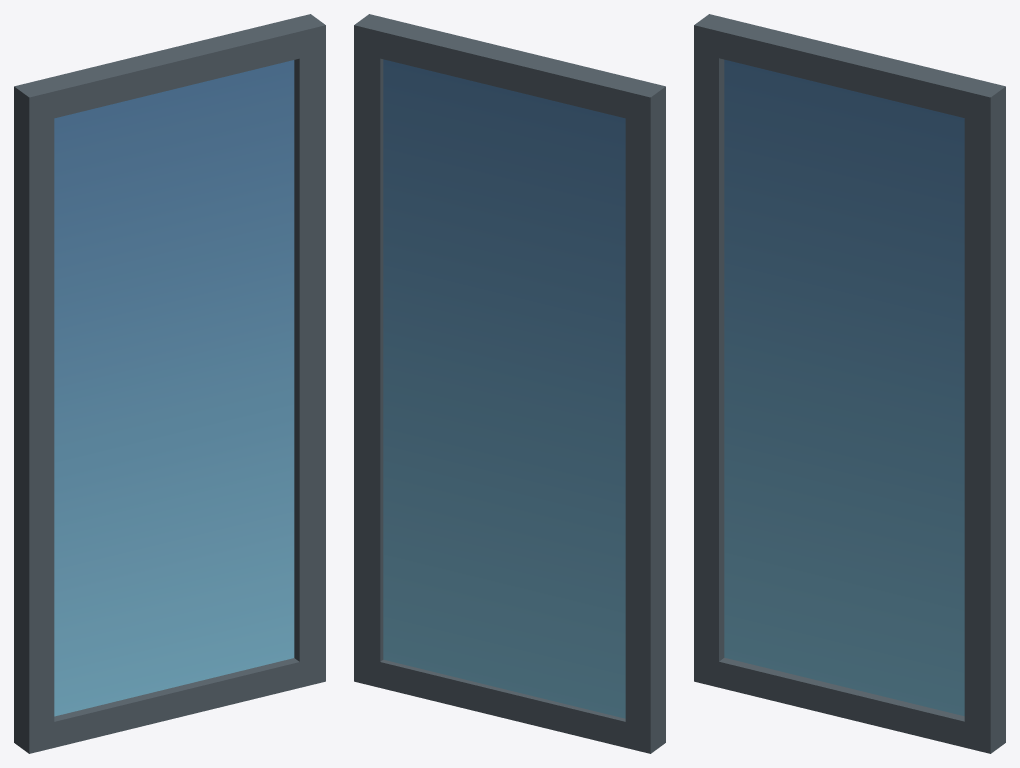
The model's file is SM_Buildings_Airport_01_Door_L.fbx.
3 views of the same model, side by side, from view 1: azimuth 30°, elevation 25°; view 2: azimuth 150°, elevation 25°; view 3: azimuth 330°, elevation 25° (orthographic).
Parts seen in each view (by area): view 1: SM_Buildings_Airport_01_Door_L; view 2: SM_Buildings_Airport_01_Door_L; view 3: SM_Buildings_Airport_01_Door_L.
Boxes of the visible parts, left/top/right/bottom form: SM_Buildings_Airport_01_Door_L: left=14, top=14, right=325, bottom=753; SM_Buildings_Airport_01_Door_L: left=354, top=14, right=665, bottom=753; SM_Buildings_Airport_01_Door_L: left=694, top=14, right=1005, bottom=753.
Bounding box in the file's own units: 1.06 × 2.24 × 0.0944.
